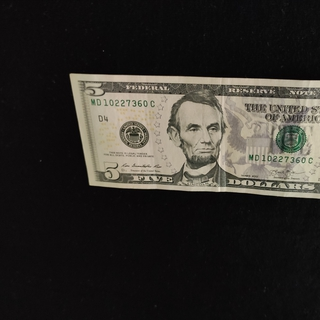5USDFront: (69, 72, 320, 201)
